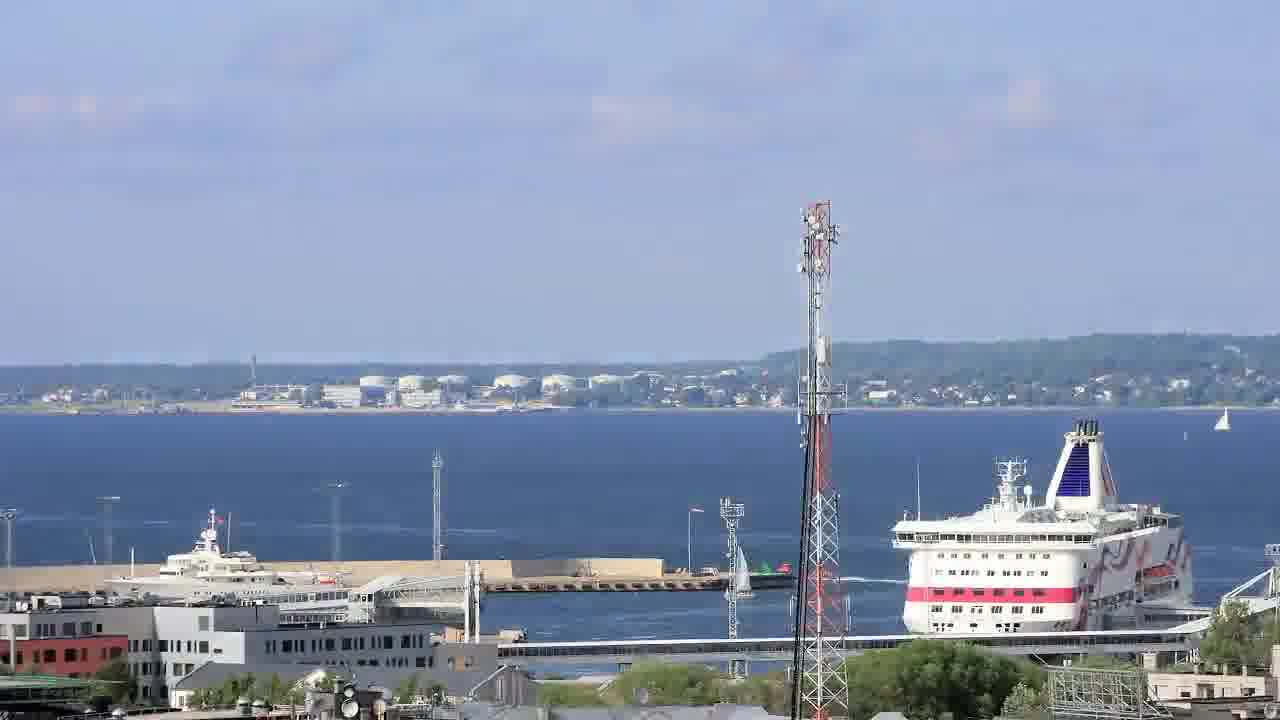type-2: (712, 536, 774, 617), (1200, 390, 1251, 446)
type-3: (868, 415, 1225, 638), (84, 511, 353, 609)
